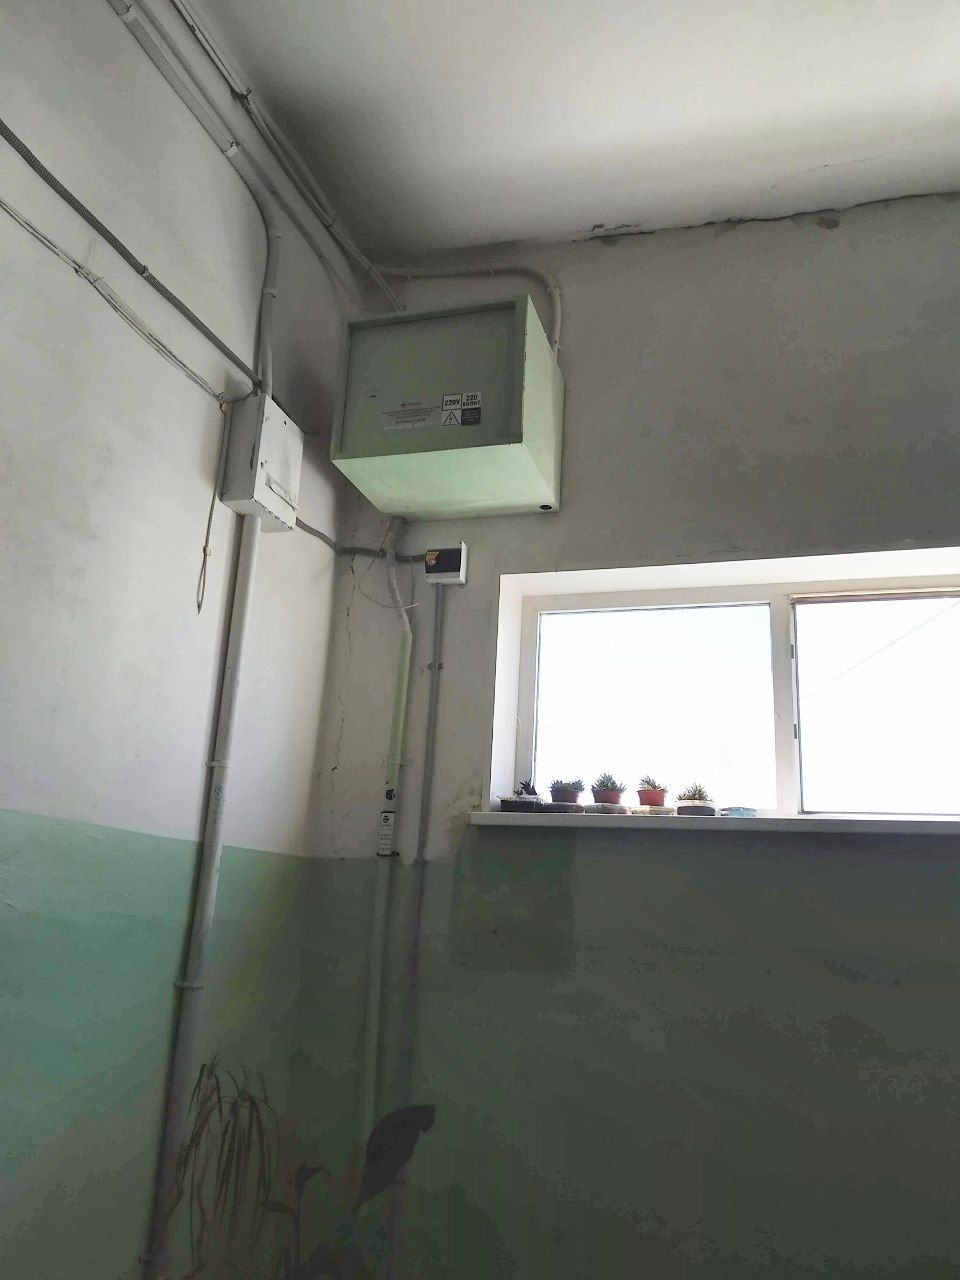shta-9m: (322, 280, 575, 527)
